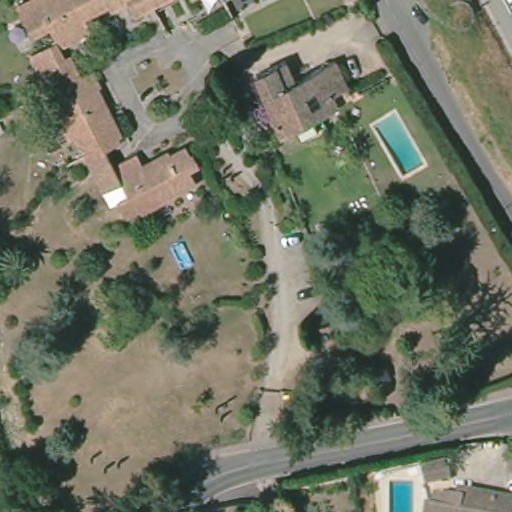pool: (363, 108, 426, 180), (383, 479, 418, 508), (169, 240, 197, 274)
